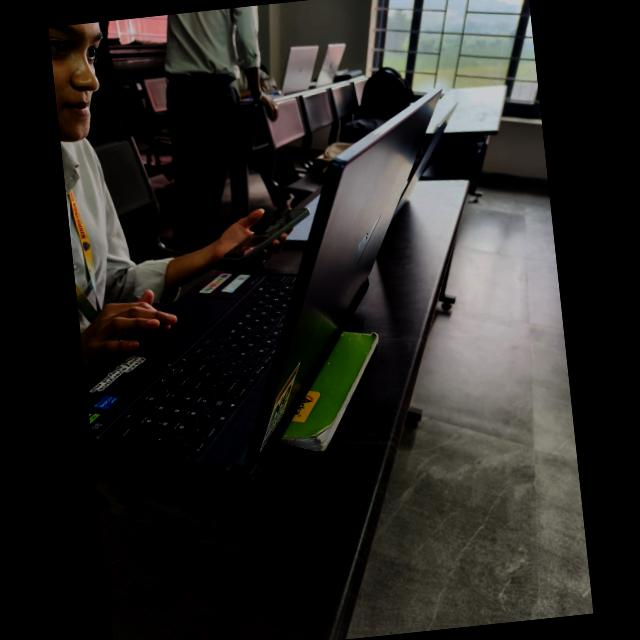laptop: (72, 78, 490, 504)
